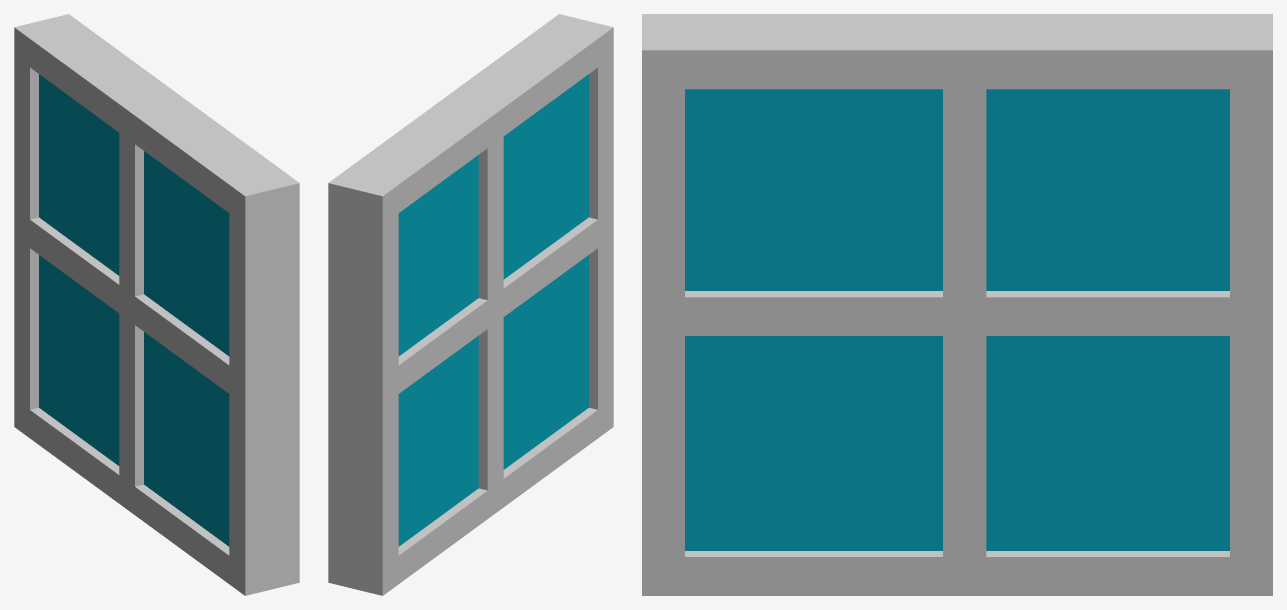
The model's file is small_window.glb.
The picture shows the model from 3 angles, left to right: view 1: azimuth 30°, elevation 25°; view 2: azimuth 150°, elevation 25°; view 3: azimuth 270°, elevation 25°; orthographic projection. The views are drawn at different scales.
Parts seen in each view (by area): view 1: Mesh_Mesh_head_geo.001_lambert2SG.001; view 2: Mesh_Mesh_head_geo.001_lambert2SG.001; view 3: Mesh_Mesh_head_geo.001_lambert2SG.001.
Boxes of the visible parts, x1=… form: Mesh_Mesh_head_geo.001_lambert2SG.001: x1=14, y1=14, x2=299, y2=595; Mesh_Mesh_head_geo.001_lambert2SG.001: x1=328, y1=14, x2=613, y2=595; Mesh_Mesh_head_geo.001_lambert2SG.001: x1=642, y1=14, x2=1272, y2=595.
Bounding box in the file's own units: 6 × 42 × 44.
